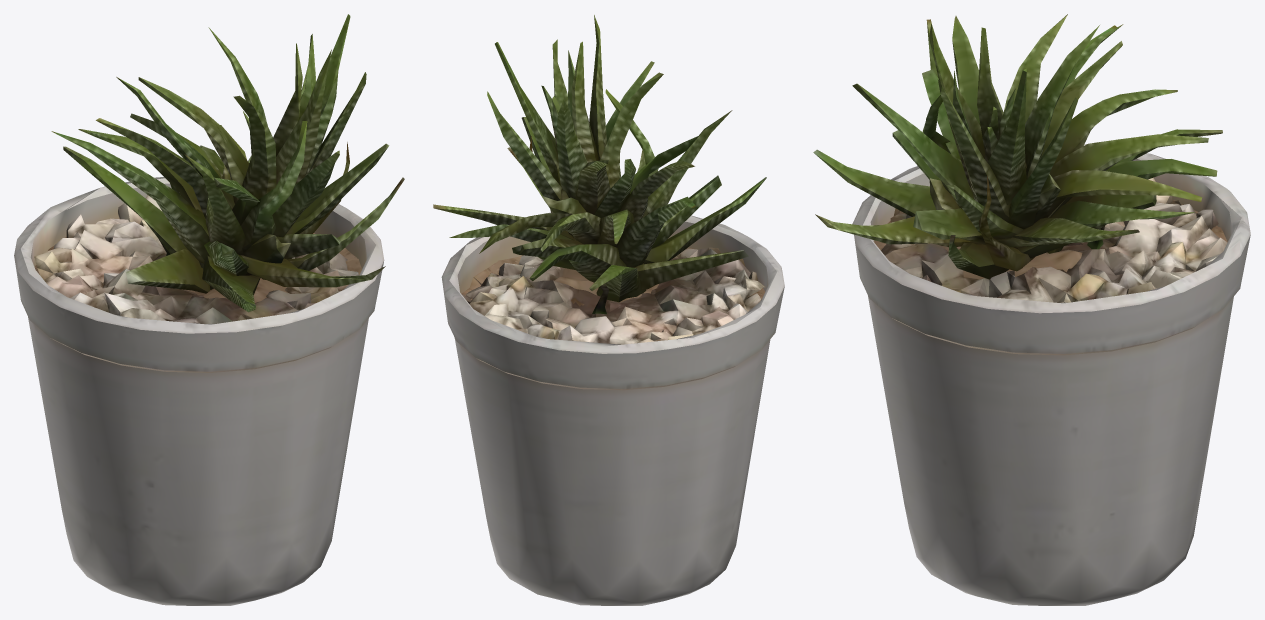
Rendered from plant-succulent.glb.
3 renders of one model, left to right at view 1: azimuth 30°, elevation 25°; view 2: azimuth 150°, elevation 25°; view 3: azimuth 270°, elevation 25°, orthographic. The views are drawn at different scales.
Parts seen in each view (by area): view 1: plant-succulent; view 2: plant-succulent; view 3: plant-succulent.
Part boxes in pixels (<box>): plant-succulent: <box>14,14,404,605</box>; plant-succulent: <box>433,15,784,605</box>; plant-succulent: <box>813,14,1250,605</box>.
Size of the model in its own units: 0.1682 by 0.2673 by 0.1848.
Materials: 1 (1 with a texture image).
